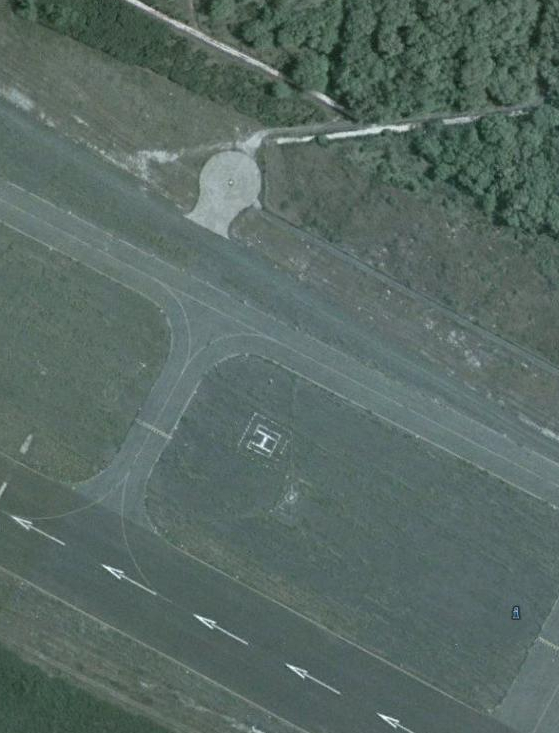heliport: (245, 428, 277, 454)
